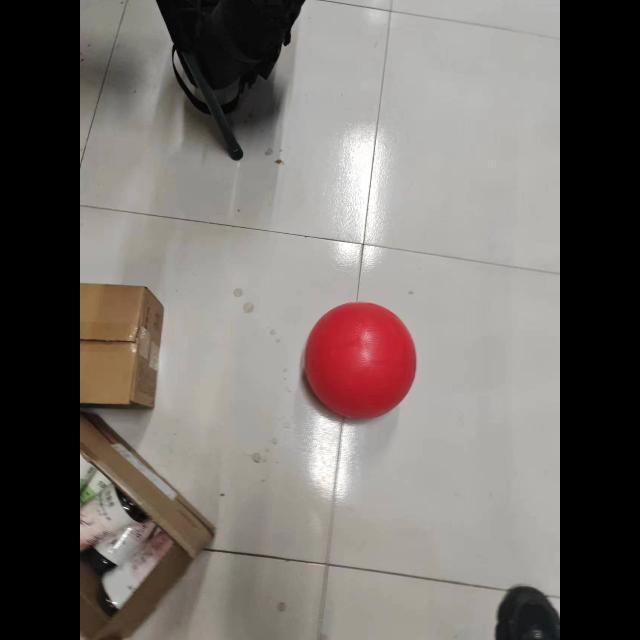R: (300, 298, 422, 420)
